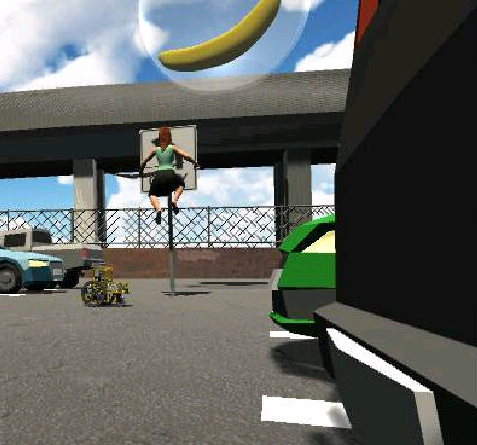arrow_left: (147, 131, 191, 168)
